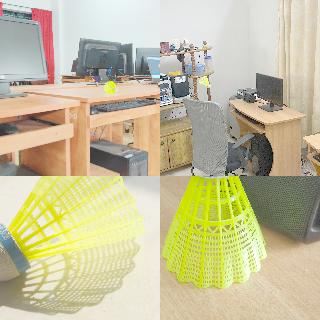shuttlecock: (0, 176, 147, 280), (161, 176, 266, 288), (103, 81, 117, 93), (198, 75, 210, 87)
